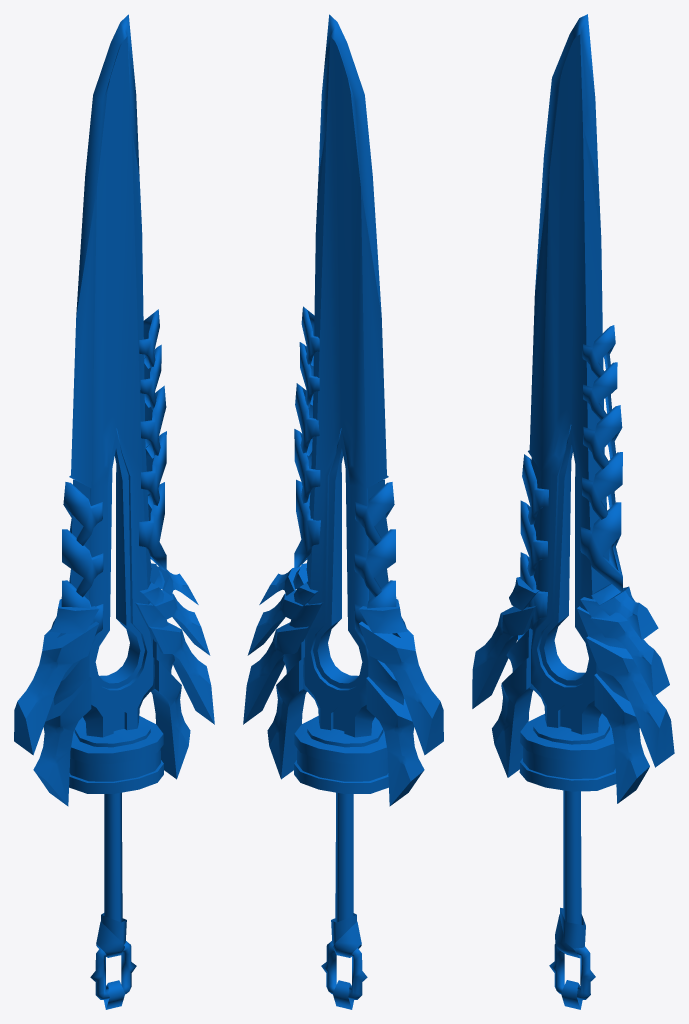
Rendered from Grruzam_Modeling_DualBlade_L.FBX.
The picture shows the model from 3 angles, left to right: view 1: azimuth 30°, elevation 25°; view 2: azimuth 150°, elevation 25°; view 3: azimuth 330°, elevation 25°; orthographic projection.
Visible parts, largest first — view 1: Grruzam_Modeling_DualBlade_L; view 2: Grruzam_Modeling_DualBlade_L; view 3: Grruzam_Modeling_DualBlade_L.
Part boxes in pixels (bbox=[...]): Grruzam_Modeling_DualBlade_L: bbox=[14, 14, 214, 1009]; Grruzam_Modeling_DualBlade_L: bbox=[243, 14, 443, 1009]; Grruzam_Modeling_DualBlade_L: bbox=[472, 14, 674, 1009].
Size of the model in its own units: 31.5 by 15.01 by 157.
